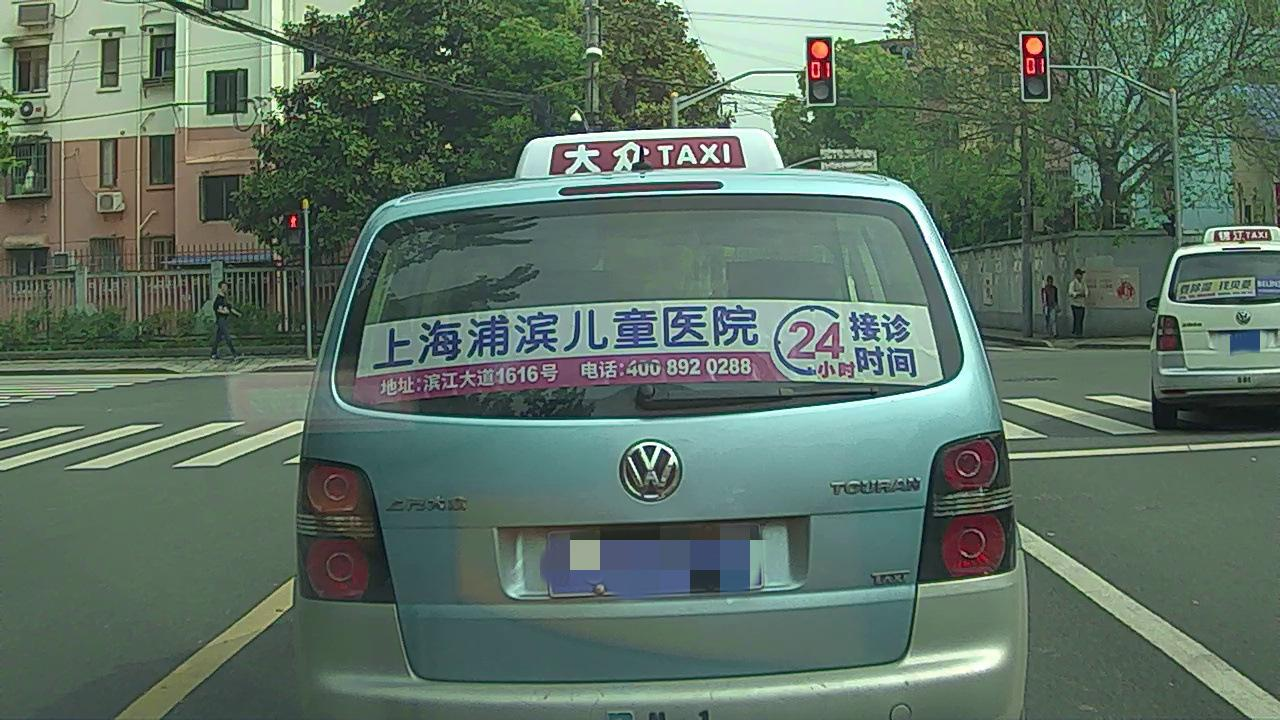traffic_light: (1023, 35, 1051, 100), (808, 35, 833, 106)
